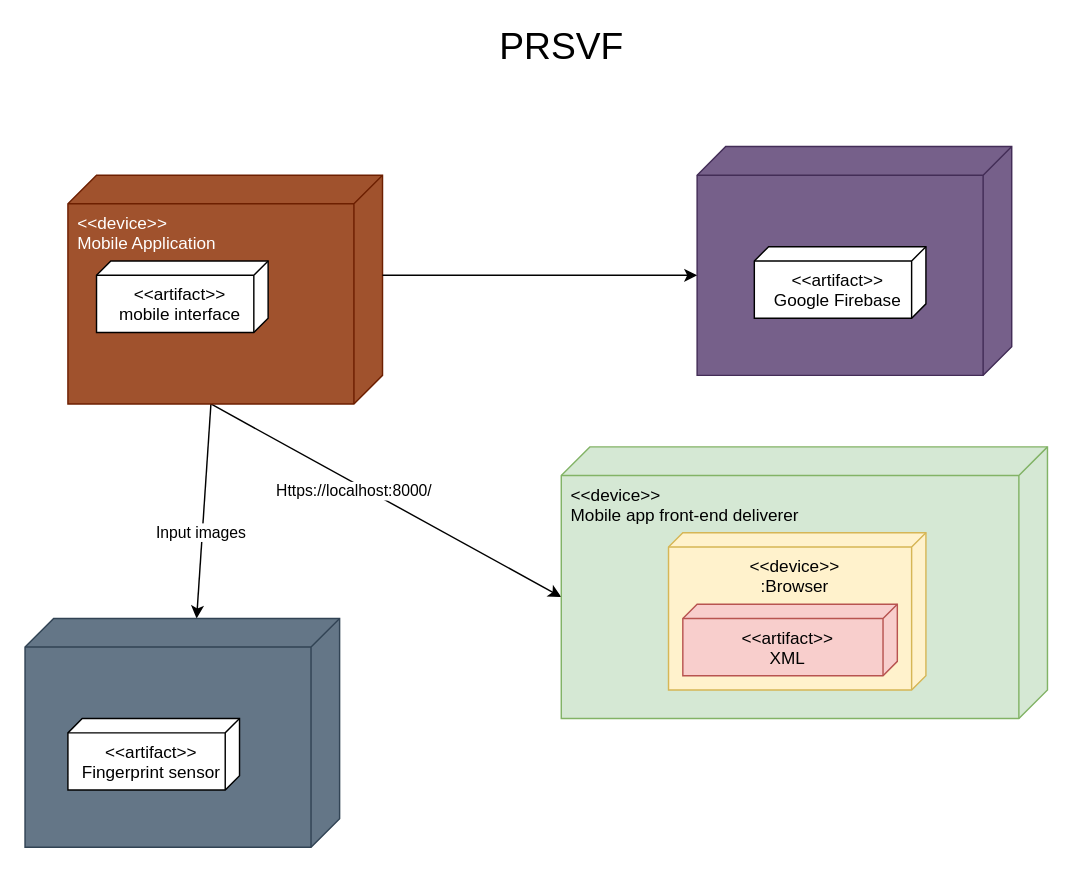
Some shapes in this 1073 by 872 pixel diagram are drawn without their labels. Here are the shapes that lost their labels. From the top down, the box of each, then its label:
(696, 145, 1012, 375): <<device>> Database server
(24, 617, 340, 847): <<device>> Linux server
